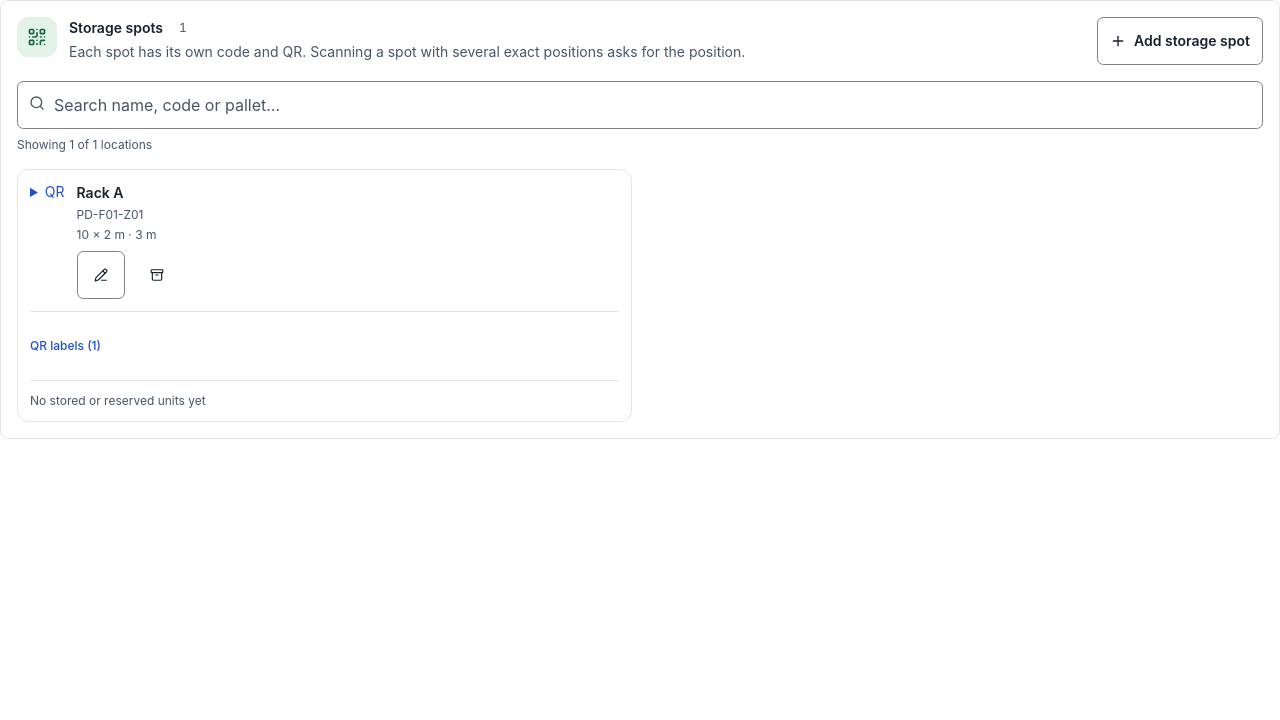
Scenario: storage spot editor actions › reports no room instead of opening an overlapping 0,0 draft
Click the button "Add storage spot" at (1180, 41), box [1097,17,1263,65]
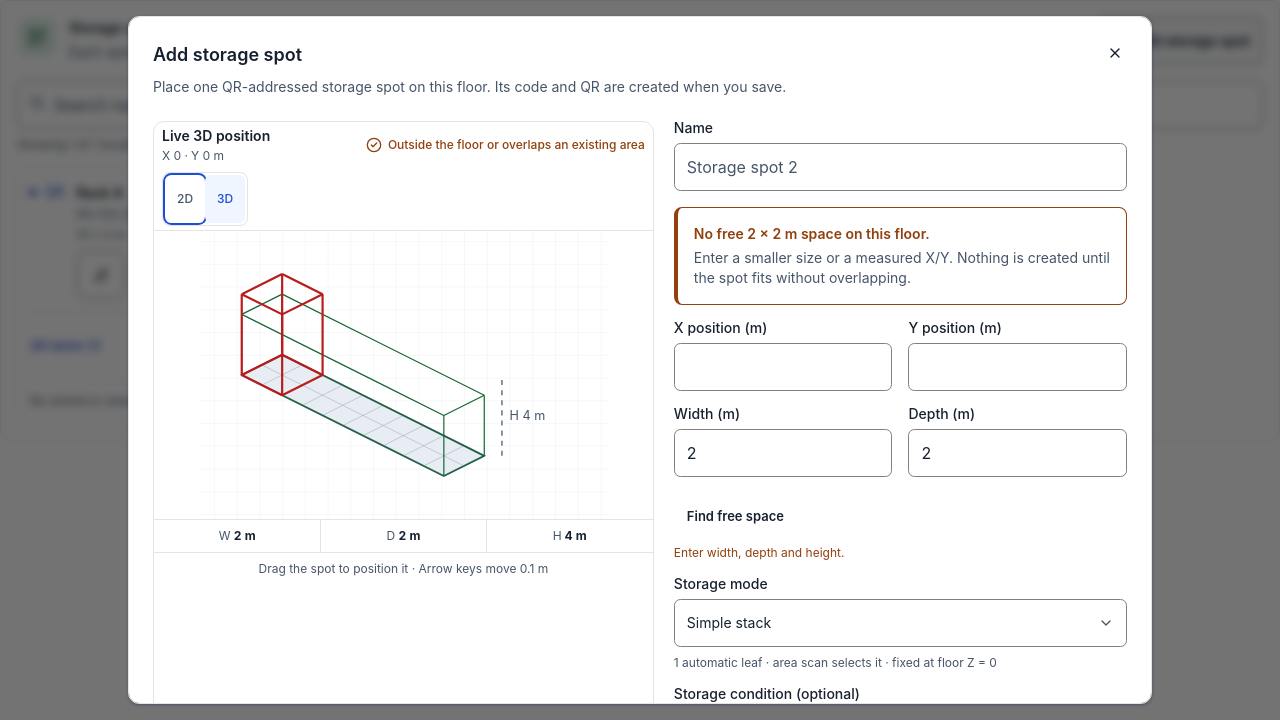
Expected: the dialog "Add storage spot" shows "No free 2 × 2 m space on this floor.", [694,225,930,242]
Expected: the number field labelled "X position (m)" is not empty
Type "0" into the number field labelled "X position (m)" at (783, 367), box [674,343,892,391]
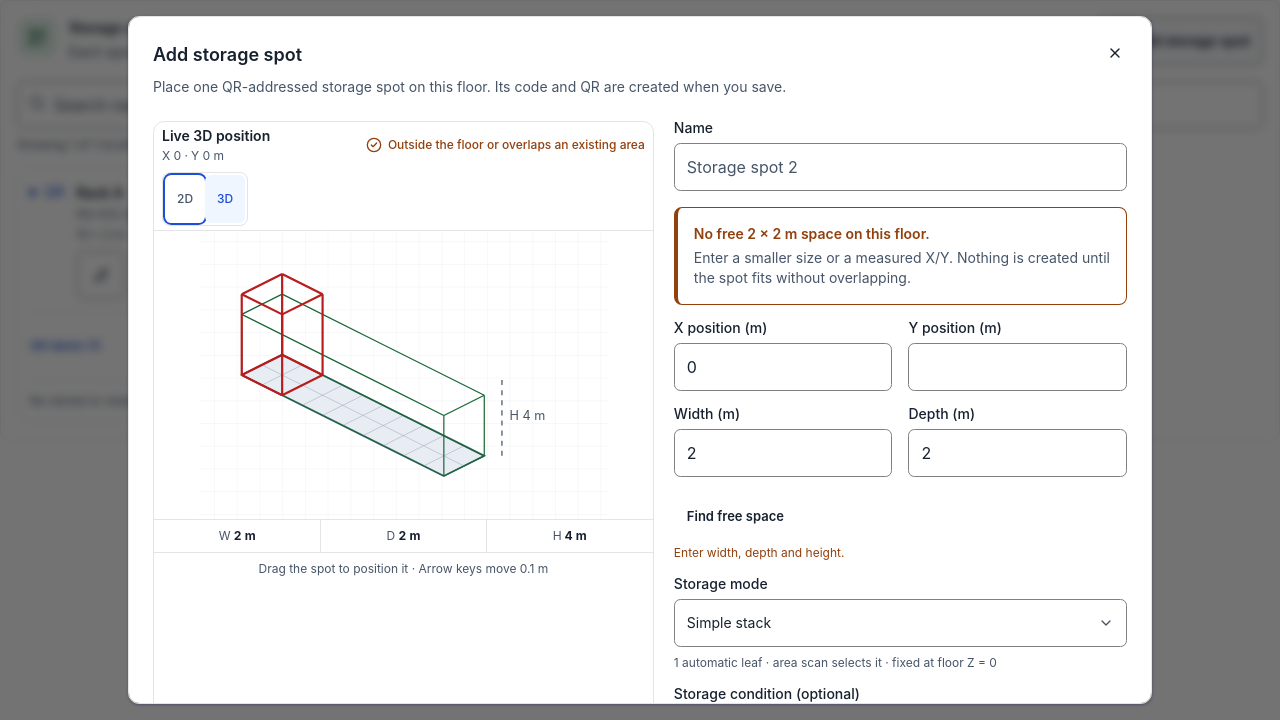
Type "0" into the number field labelled "Y position (m)" at (1018, 367), box [908,343,1127,391]
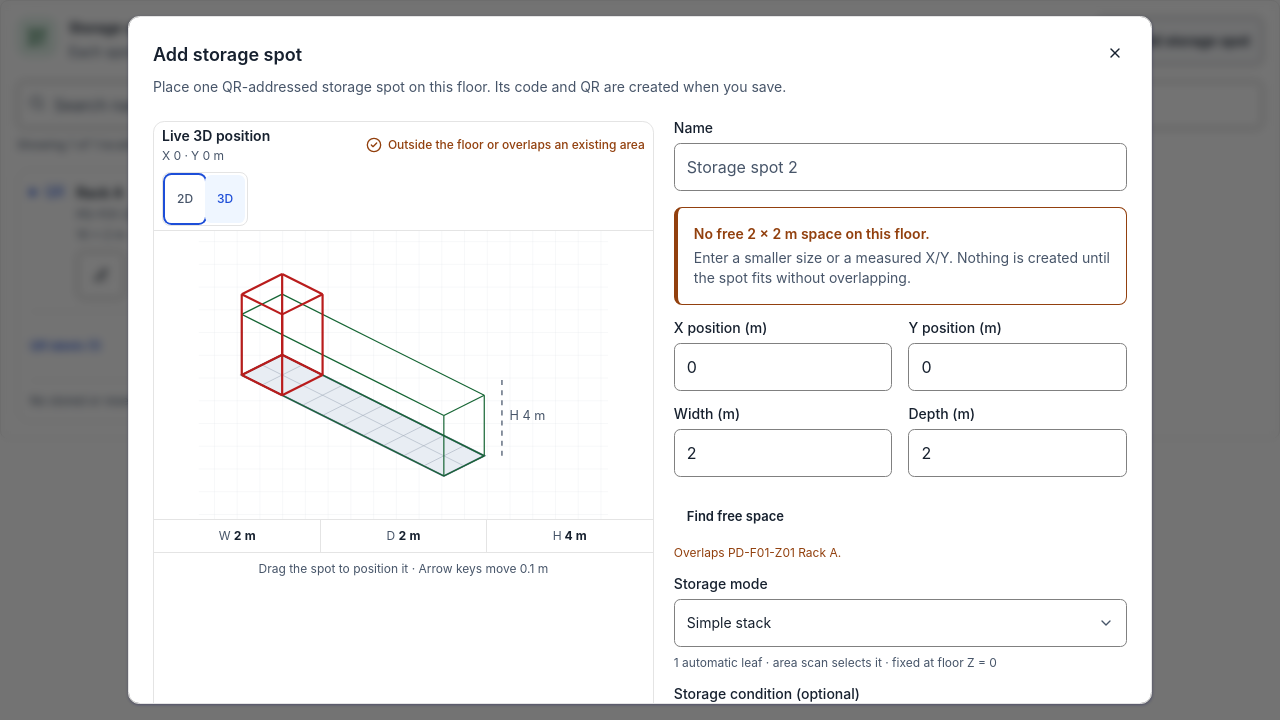
Expected: the text with test id "zone-placement-status" reads "Overlaps PD-F01-Z01 Rack A.", [674,545,841,560]
